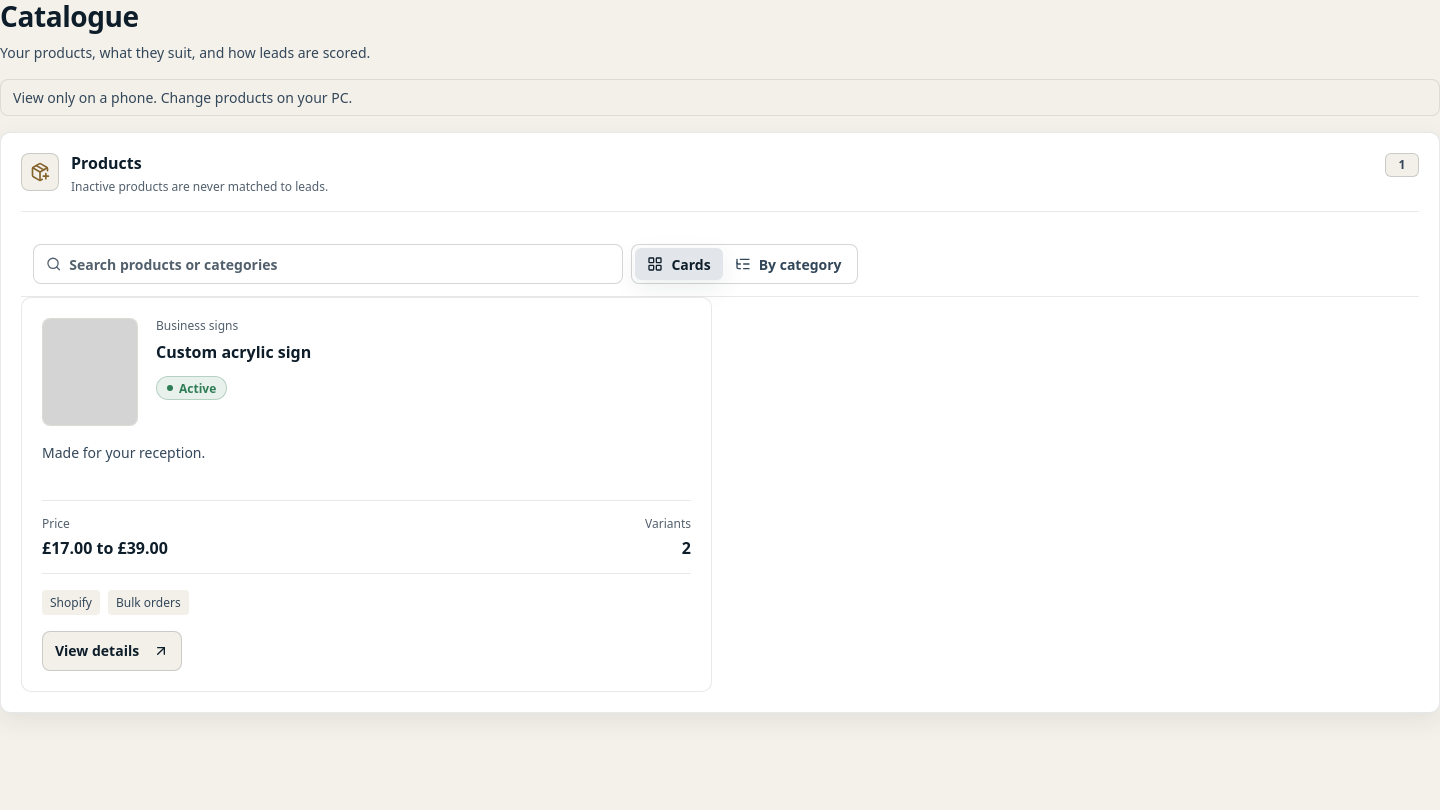
Catalogue product details › explains how to load missing variant data instead of implying there are none
Click the button "View details". click: (112, 652)
box: [42, 632, 182, 672]
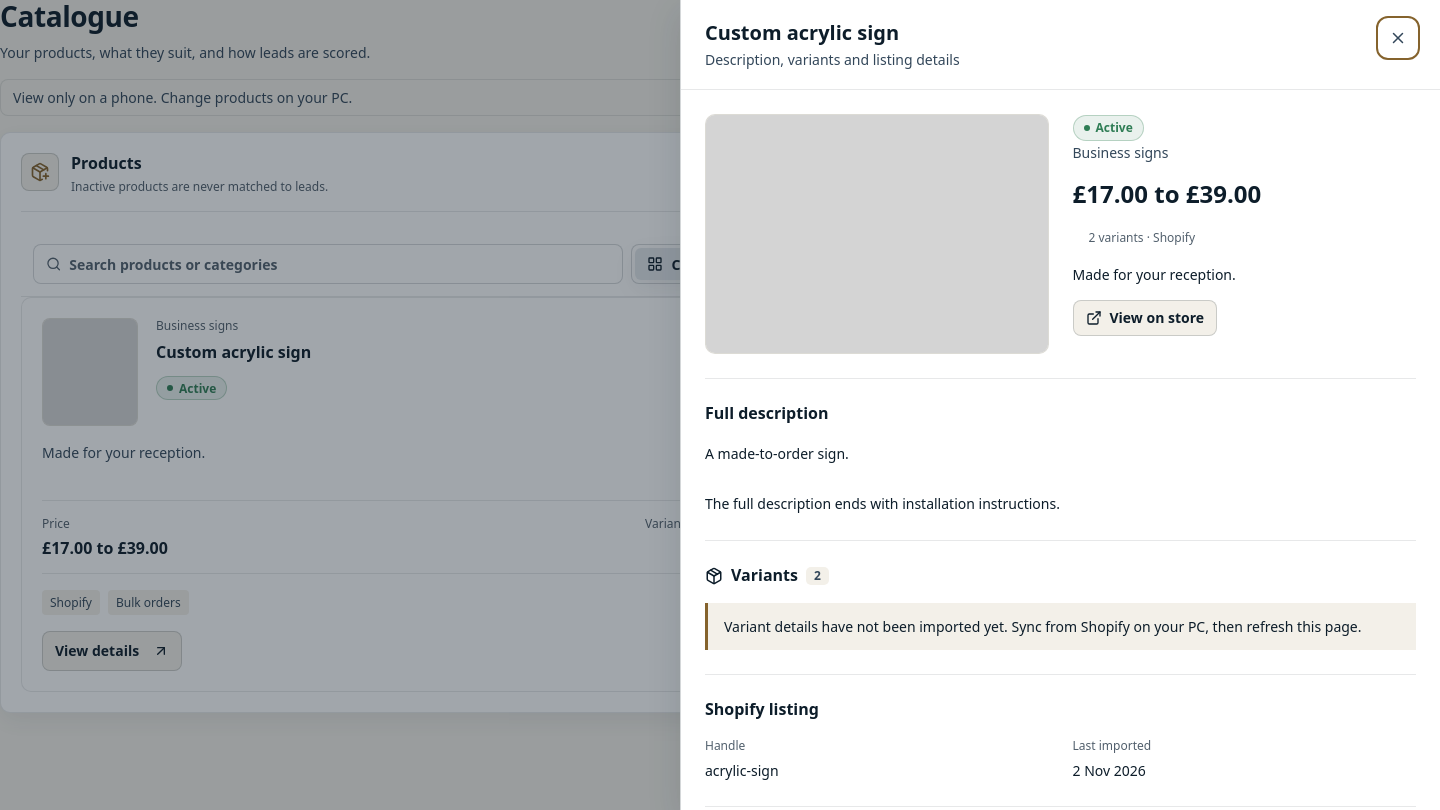
Now the text "Sync from Shopify on your PC" is shown, box [1012, 617, 1362, 636]
Now the text "The full description ends with installation instructions" is shown, box [705, 444, 1060, 513]
